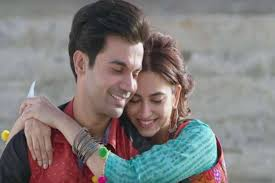Bad: (1, 1, 227, 183)
